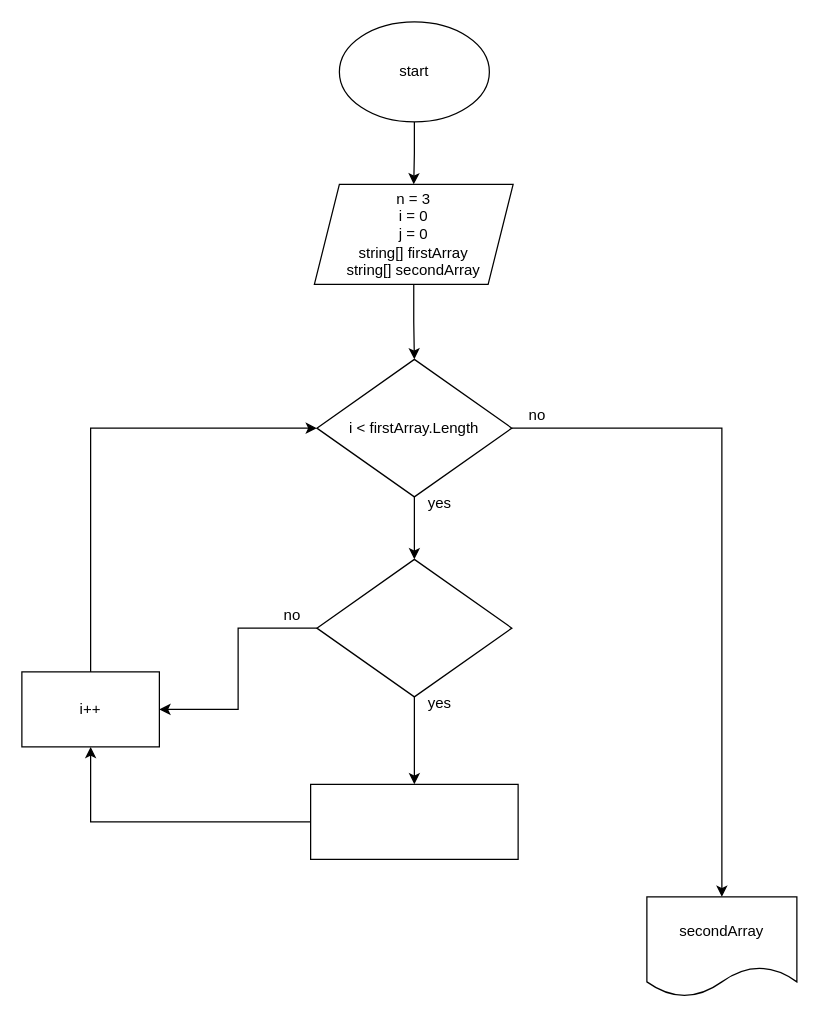
Image size: 819x1019. Some labels were removed from this diagram. Each missing label, with the box of its shape:
firstArray[i].Length <= n: (316, 558, 512, 697)
secondArray[j] = firstArray[i] j++: (309, 783, 518, 859)
